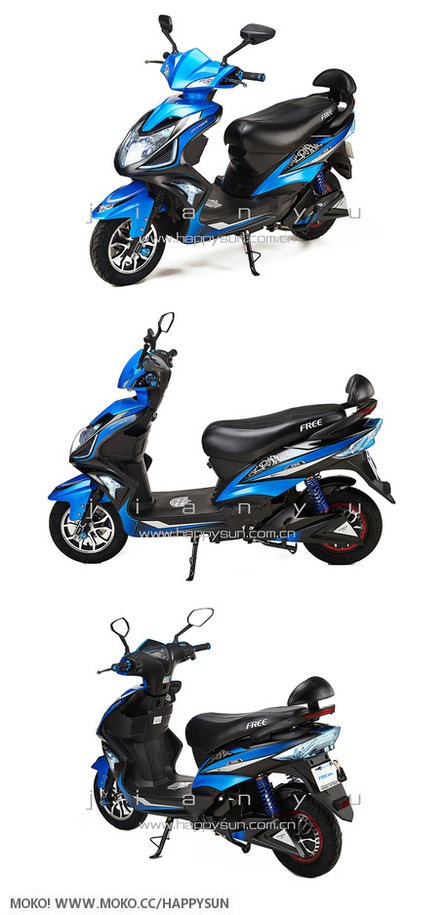non-vehicle: (49, 340, 391, 565), (89, 45, 366, 286), (90, 625, 351, 880)
